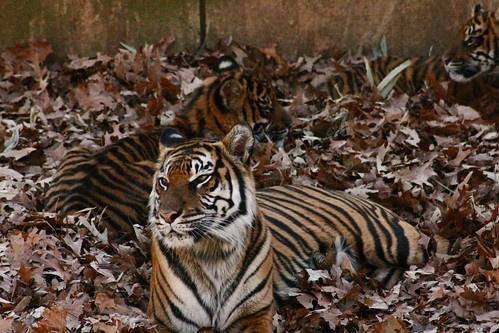tigre: (145, 122, 436, 331), (45, 66, 292, 226)
